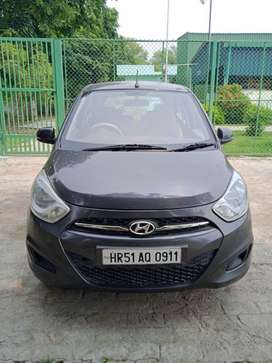HR51AQ0911: (101, 245, 180, 265)
